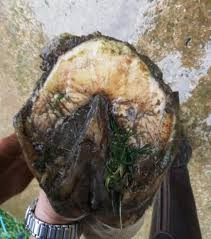horsesole: (13, 32, 180, 193)
